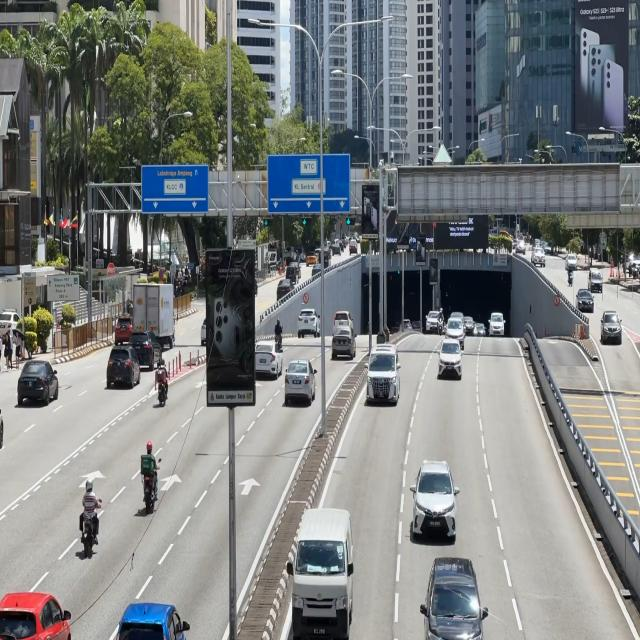Car: (297, 506, 355, 637), (426, 560, 486, 637), (416, 460, 458, 543), (368, 340, 401, 405), (17, 358, 61, 406), (284, 360, 318, 407), (106, 346, 142, 388), (131, 332, 164, 367), (438, 339, 464, 379), (254, 344, 283, 377), (601, 311, 623, 345), (576, 284, 597, 314), (298, 311, 322, 337), (333, 330, 356, 357), (332, 310, 356, 332)
